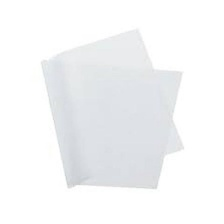tissue: (35, 23, 191, 198)
